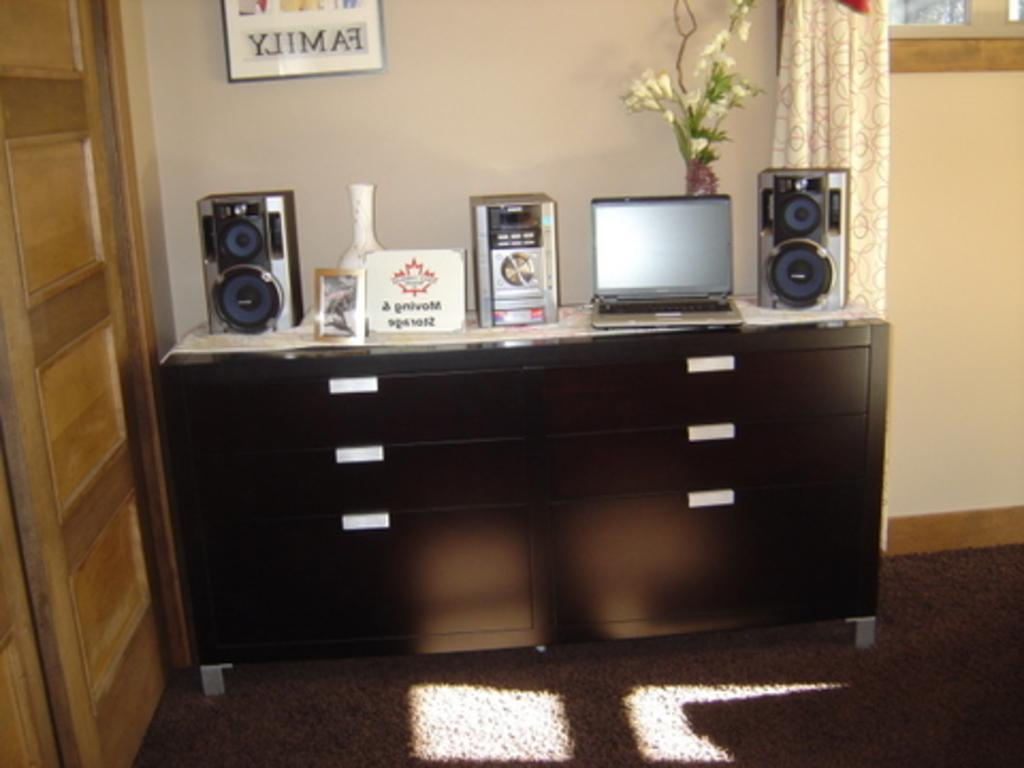door: (0, 5, 145, 766)
